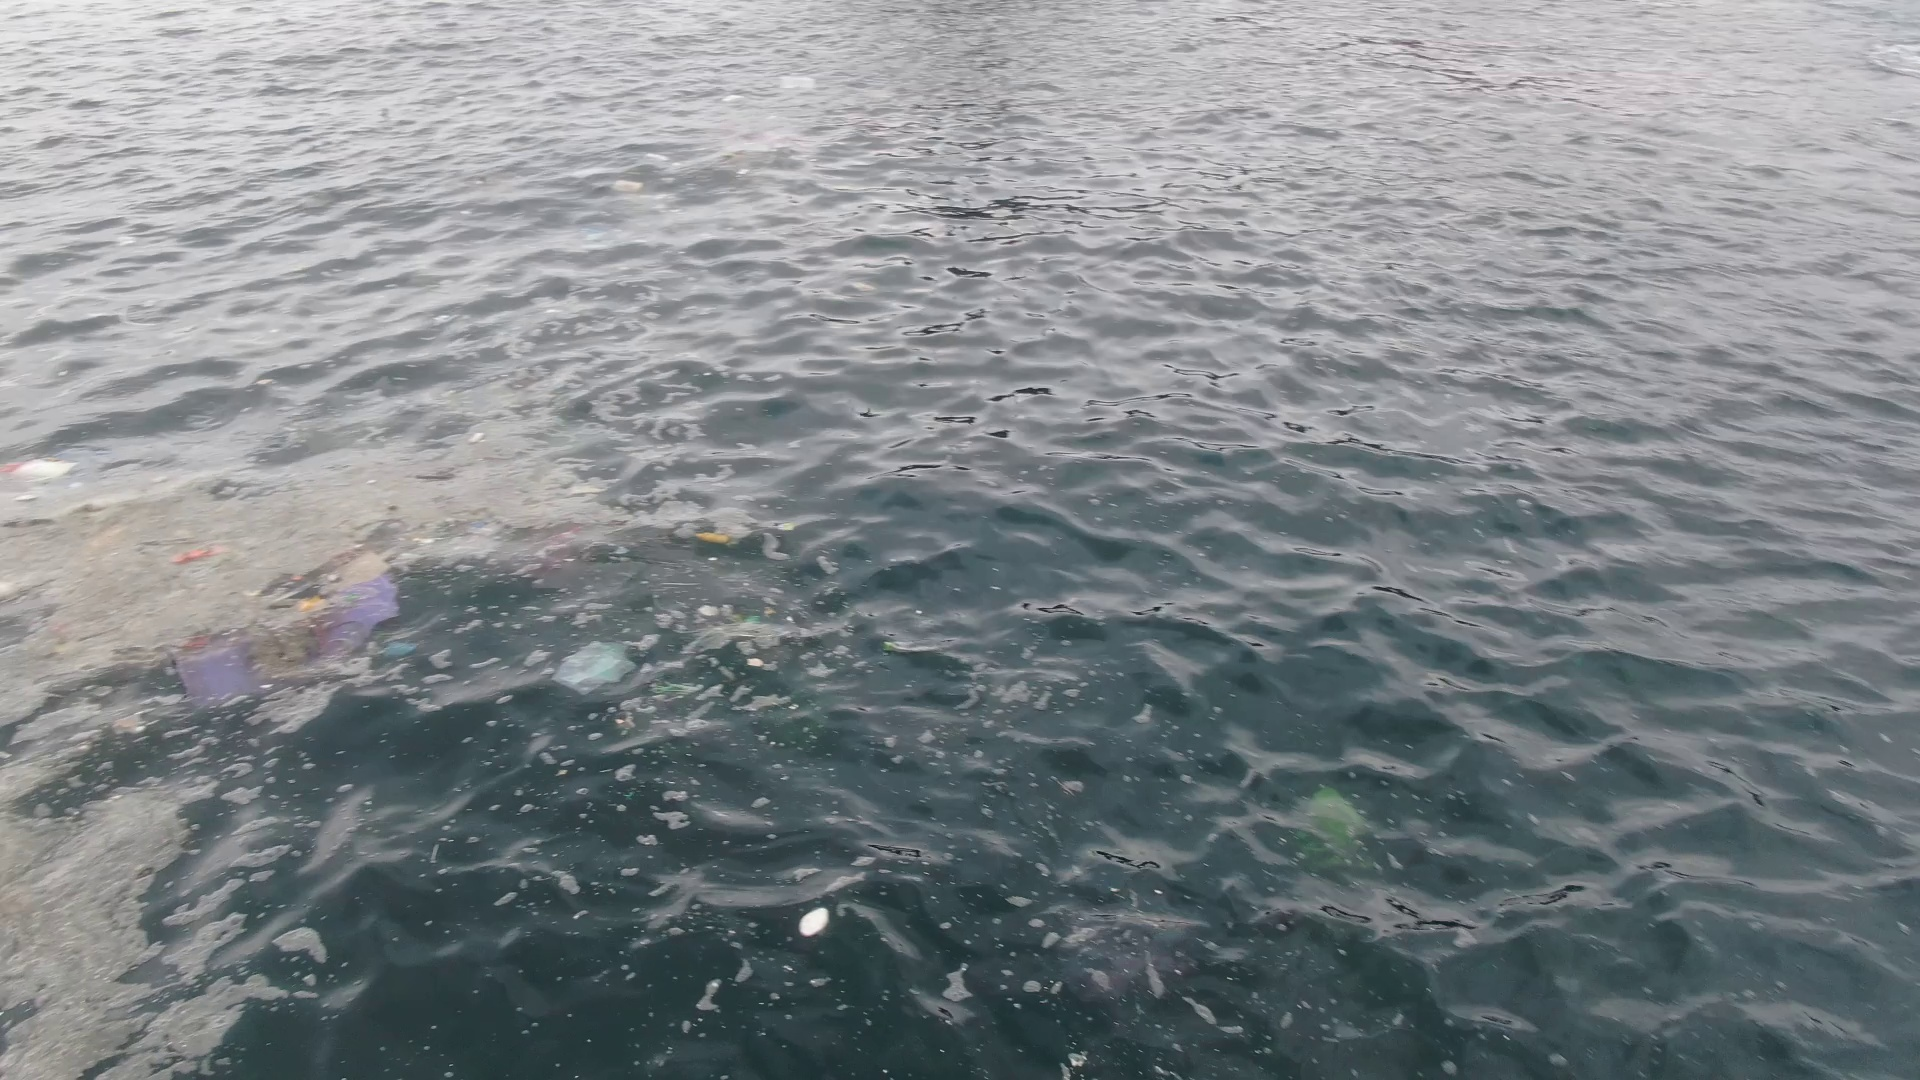garbage: (3, 427, 848, 764), (611, 150, 680, 194), (779, 75, 819, 91), (723, 94, 746, 102)
